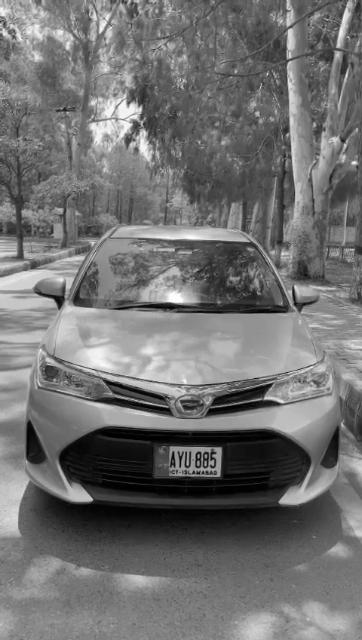Number: (170, 449, 218, 469)
